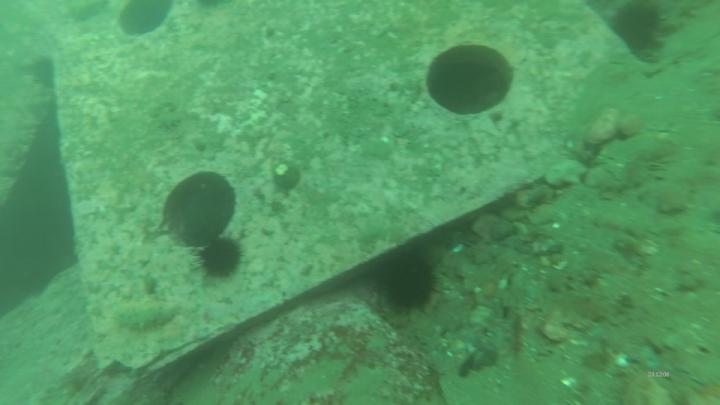echinus: (364, 247, 448, 322), (191, 232, 250, 284)
holothurian: (115, 302, 182, 338)
